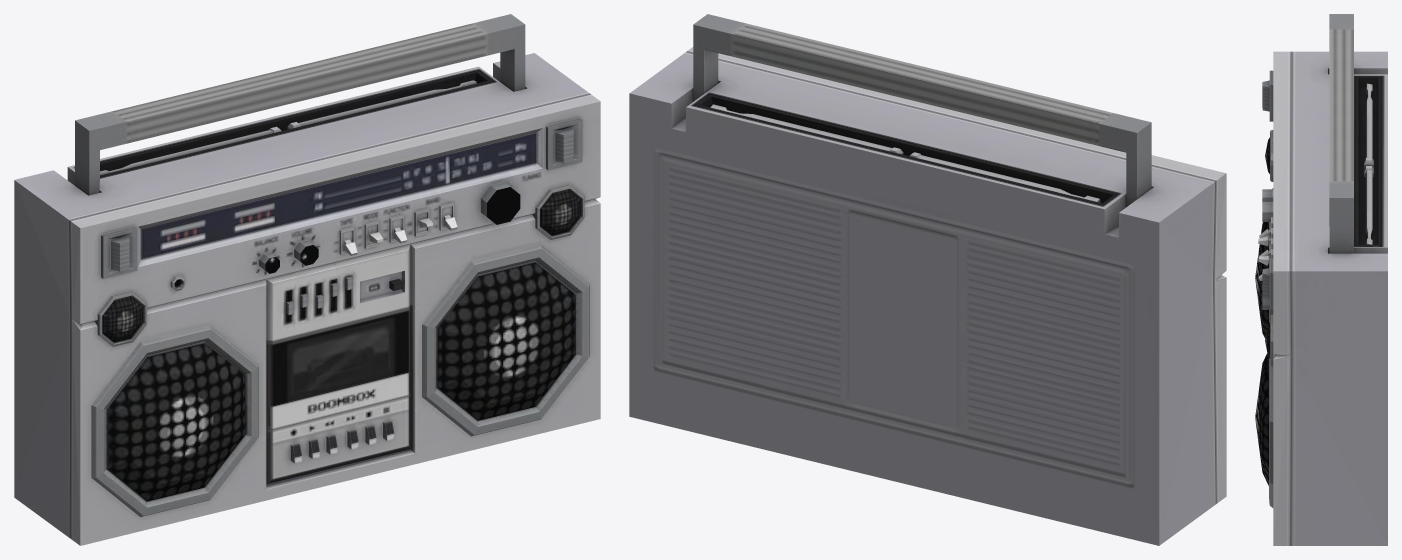
Rendered from 4hZk7Fg8KiP.glb.
3 views of the same model, side by side, from view 1: azimuth 30°, elevation 25°; view 2: azimuth 150°, elevation 25°; view 3: azimuth 270°, elevation 25° (orthographic). The views are drawn at different scales.
Visible parts, largest first — view 1: Boombox_mesh; view 2: Boombox_mesh; view 3: Boombox_mesh.
Boxes of the visible parts, box(x1,y1,x2,y2) form: Boombox_mesh: box(14, 14, 600, 545); Boombox_mesh: box(629, 14, 1226, 545); Boombox_mesh: box(1255, 14, 1387, 545).
Bounding box in the file's own units: 1.43 × 1 × 0.3649.
Materials: 1 (1 with a texture image).
